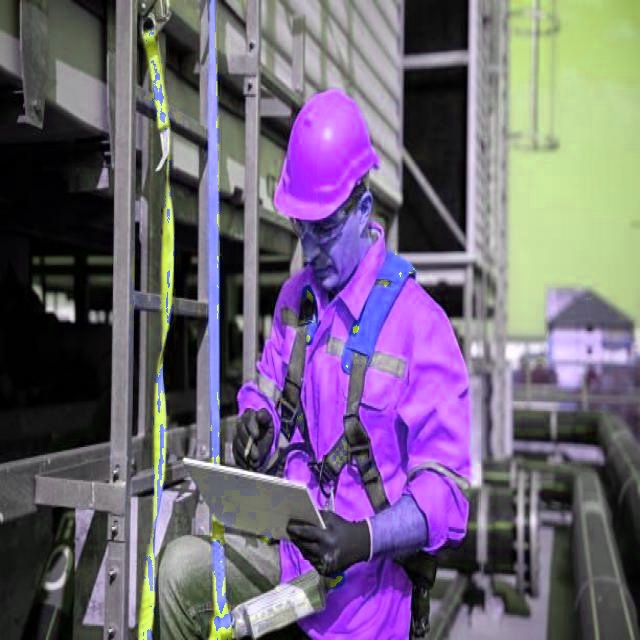safety belt: (260, 281, 432, 579)
